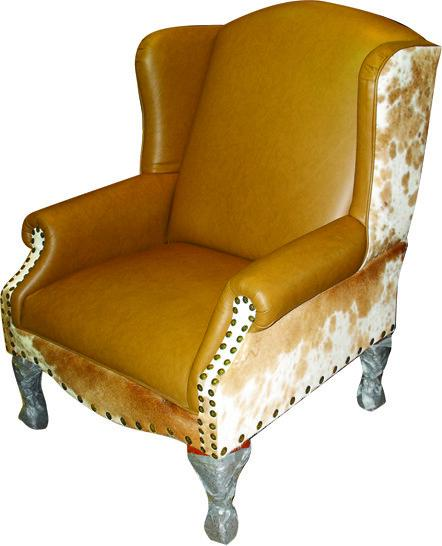chair: (1, 1, 442, 545)
